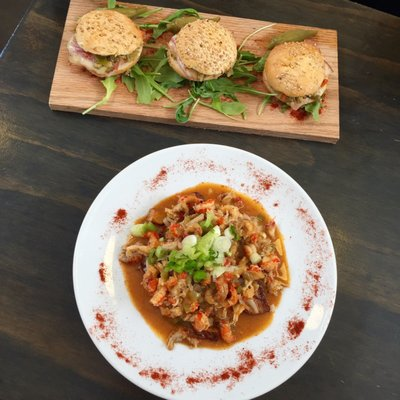curry: (162, 227, 222, 281)
soup: (67, 7, 188, 108), (259, 40, 331, 122), (66, 9, 146, 80)
